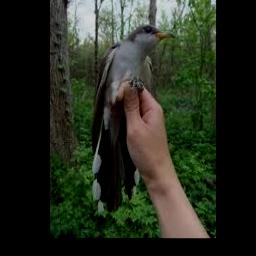Cuckoo: (92, 24, 174, 211)
